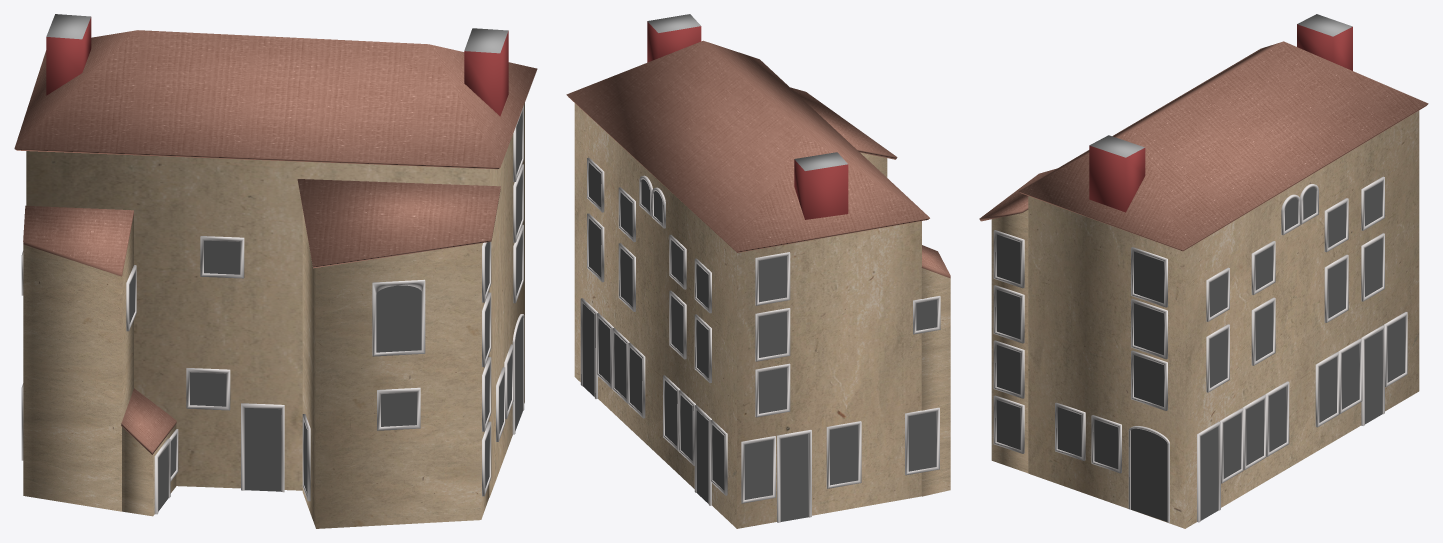
The model's file is ilot40combine.fbx.
3 renders of one model, left to right at view 1: azimuth 30°, elevation 25°; view 2: azimuth 150°, elevation 25°; view 3: azimuth 270°, elevation 25°, orthographic. The views are drawn at different scales.
Visible parts, largest first — view 1: _ILOT40BAT1, _ILOT40BAT2, _ILOT40BAT3, _ILOT40BAT4; view 2: _ILOT40BAT1, _ILOT40BAT3, _ILOT40BAT2; view 3: _ILOT40BAT1, _ILOT40BAT2.
Boxes of the visible parts, left/top/right/bottom form: _ILOT40BAT1: left=14, top=14, right=537, bottom=497; _ILOT40BAT2: left=297, top=179, right=500, bottom=528; _ILOT40BAT3: left=23, top=205, right=136, bottom=511; _ILOT40BAT4: left=121, top=388, right=178, bottom=516; _ILOT40BAT1: left=566, top=14, right=940, bottom=528; _ILOT40BAT3: left=921, top=245, right=950, bottom=496; _ILOT40BAT2: left=790, top=87, right=897, bottom=177; _ILOT40BAT1: left=1019, top=14, right=1428, bottom=528; _ILOT40BAT2: left=979, top=168, right=1057, bottom=473.
Size of the model in its own units: 3.07 by 2.48 by 2.88.
